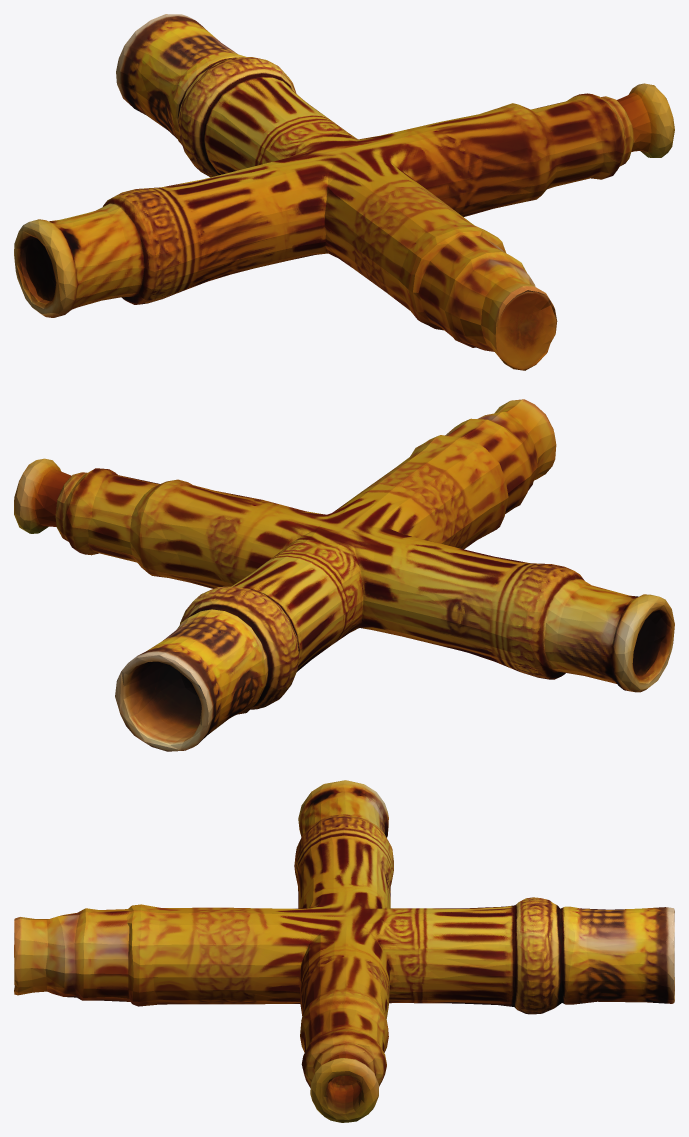
The model's file is wooden-bamboo-flute-art-deco.jpeg.glb.
3 renders of one model, top to bottom at view 1: azimuth 30°, elevation 25°; view 2: azimuth 150°, elevation 25°; view 3: azimuth 270°, elevation 25°, orthographic. The views are drawn at different scales.
Parts seen in each view (by area): view 1: world; view 2: world; view 3: world.
Boxes of the visible parts, box(x1,y1,x2,y2) form: world: box(14, 14, 674, 370); world: box(14, 399, 674, 751); world: box(14, 780, 674, 1122).
Size of the model in its own units: 0.9918 by 0.1734 by 1.
Materials: 1 (1 with a texture image).
